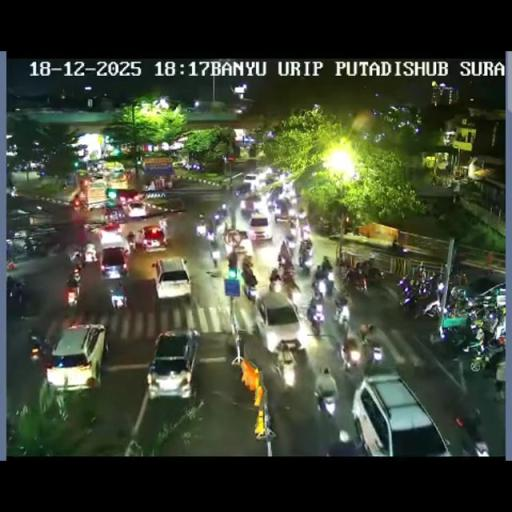Car: (351, 372, 449, 455), (44, 322, 106, 390), (146, 329, 200, 399), (253, 291, 301, 355), (154, 257, 191, 300), (273, 342, 298, 386), (100, 246, 130, 279), (139, 225, 167, 251), (247, 214, 273, 240), (241, 194, 261, 218), (124, 199, 149, 218), (273, 198, 290, 222), (242, 172, 260, 190), (263, 172, 279, 187), (172, 159, 187, 168)
Motorcycle: (318, 256, 390, 358), (399, 270, 446, 317), (457, 293, 504, 335), (464, 327, 504, 372), (454, 409, 490, 455), (428, 321, 466, 360), (327, 432, 364, 456), (341, 340, 364, 373), (363, 334, 385, 368), (315, 383, 337, 415), (311, 266, 333, 297), (281, 270, 301, 302), (343, 268, 368, 293), (492, 356, 506, 400), (332, 294, 350, 328), (306, 300, 324, 334), (24, 235, 50, 257), (108, 281, 127, 309), (364, 265, 385, 287), (6, 276, 25, 300), (242, 276, 258, 302), (448, 285, 468, 304), (284, 223, 298, 246), (358, 322, 374, 342), (298, 247, 312, 269), (29, 341, 42, 364), (412, 263, 425, 285), (451, 270, 468, 286), (233, 238, 248, 256), (390, 241, 409, 255), (110, 206, 126, 222), (268, 274, 282, 292), (318, 218, 332, 236), (210, 243, 220, 267), (69, 268, 81, 288), (84, 244, 97, 262), (70, 248, 82, 266), (242, 254, 254, 272), (213, 208, 224, 227), (197, 216, 207, 234), (301, 222, 310, 240), (127, 236, 137, 251), (276, 252, 286, 267), (297, 208, 307, 222), (266, 200, 276, 213), (206, 228, 215, 242), (73, 197, 82, 210), (222, 218, 229, 234), (234, 186, 244, 196)
